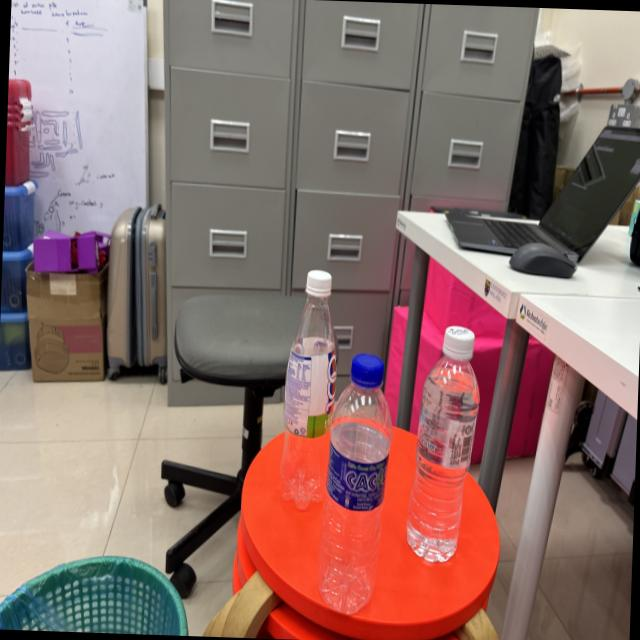plastic_bottle: (400, 318, 487, 572), (317, 348, 396, 622), (270, 262, 342, 518)
